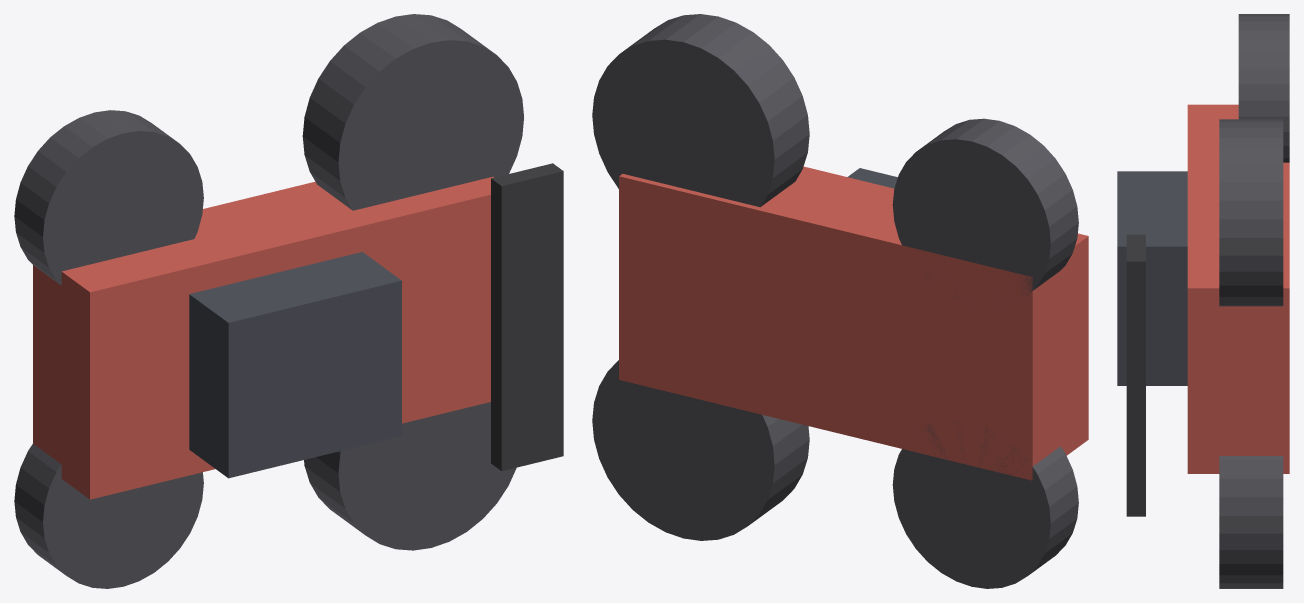
File: carro_buggy.glb
The picture shows the model from 3 angles, left to right: view 1: azimuth 30°, elevation 25°; view 2: azimuth 150°, elevation 25°; view 3: azimuth 270°, elevation 25°; orthographic projection. The views are drawn at different scales.
Parts seen in each view (by area): view 1: chasis_principal, cabina_piloto, rueda_trasera_izq, rueda_delantera_izq, aleron_aerodinamico, rueda_trasera_der, rueda_delantera_der; view 2: chasis_principal, rueda_trasera_izq, rueda_trasera_der, rueda_delantera_izq, rueda_delantera_der; view 3: chasis_principal, cabina_piloto, rueda_trasera_izq, rueda_trasera_der, rueda_delantera_izq, aleron_aerodinamico.
Part boxes in pixels (x1=…): chasis_principal: x1=33, y1=176, x2=493, y2=499; cabina_piloto: x1=189, y1=252, x2=401, y2=478; rueda_trasera_izq: x1=302, y1=14, x2=523, y2=210; rueda_delantera_izq: x1=14, y1=110, x2=203, y2=285; aleron_aerodinamico: x1=491, y1=163, x2=563, y2=470; rueda_trasera_der: x1=304, y1=402, x2=516, y2=550; rueda_delantera_der: x1=14, y1=444, x2=203, y2=588; chasis_principal: x1=619, y1=166, x2=1088, y2=480; rueda_trasera_izq: x1=592, y1=14, x2=809, y2=207; rueda_trasera_der: x1=592, y1=360, x2=809, y2=540; rueda_delantera_izq: x1=892, y1=118, x2=1078, y2=302; rueda_delantera_der: x1=892, y1=422, x2=1078, y2=588; chasis_principal: x1=1187, y1=104, x2=1289, y2=473; cabina_piloto: x1=1117, y1=171, x2=1187, y2=385; rueda_trasera_izq: x1=1219, y1=119, x2=1283, y2=306; rueda_trasera_der: x1=1219, y1=456, x2=1283, y2=588; rueda_delantera_izq: x1=1238, y1=14, x2=1289, y2=162; aleron_aerodinamico: x1=1126, y1=234, x2=1145, y2=516.
Bounding box in the file's own units: 76 × 78 × 27.
